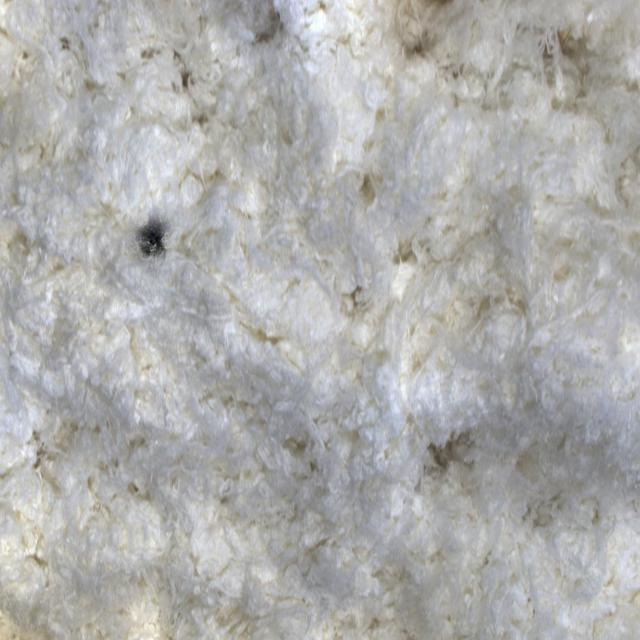dust: (125, 192, 185, 288)
